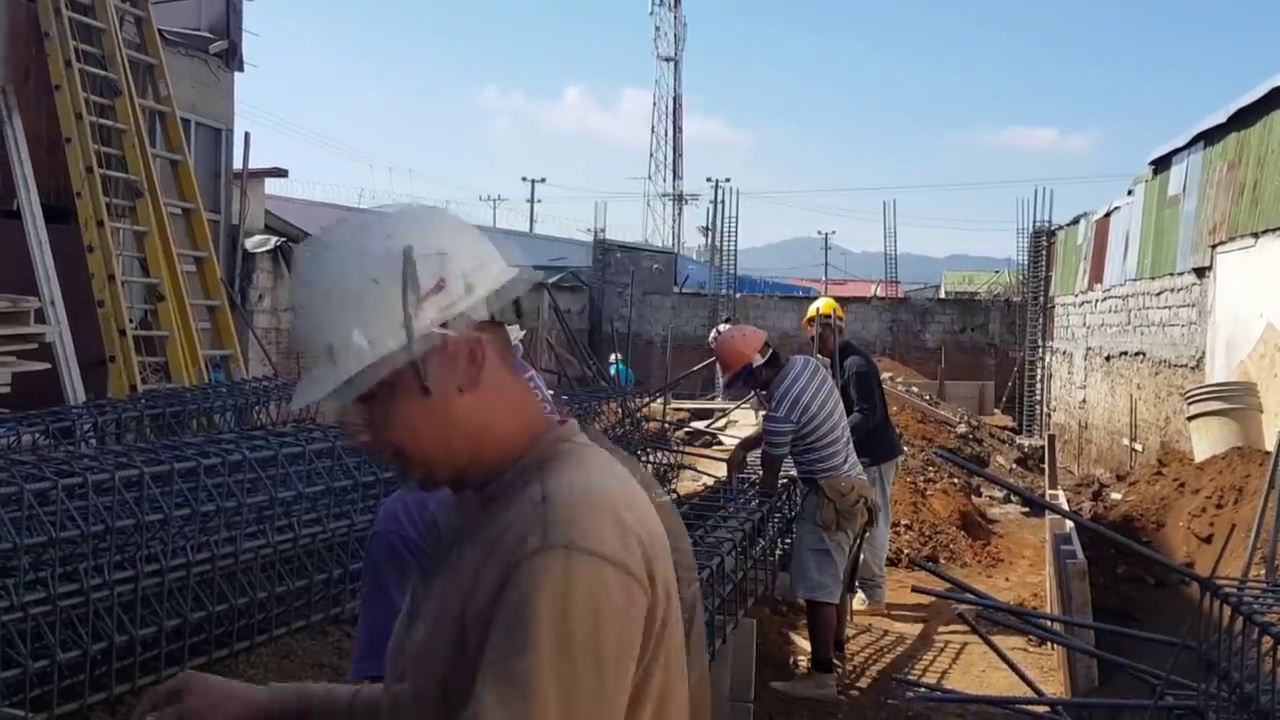helmet: (285, 237, 489, 414), (713, 327, 767, 378), (805, 296, 846, 321), (609, 354, 622, 361)
helmet-on: (283, 202, 559, 494), (713, 323, 789, 399), (808, 295, 845, 348), (608, 353, 623, 365)
person: (269, 197, 710, 711), (711, 321, 874, 667), (805, 294, 901, 610), (607, 353, 635, 389)
